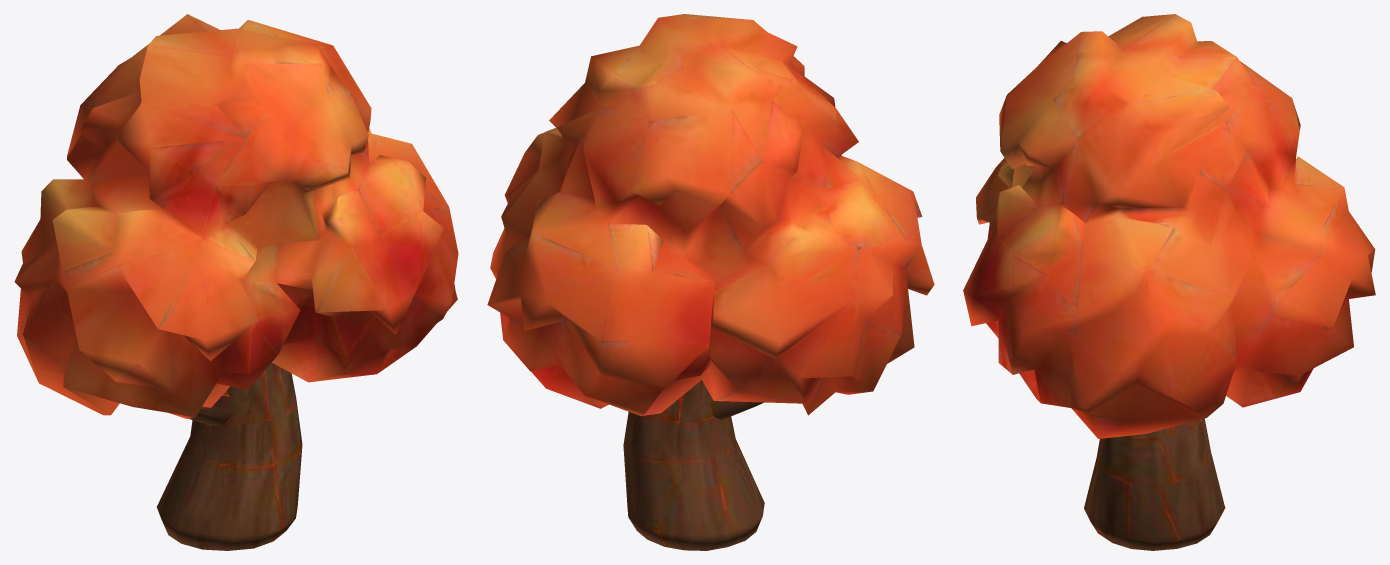
File: maple.glb
3 views of the same model, side by side, from view 1: azimuth 30°, elevation 25°; view 2: azimuth 150°, elevation 25°; view 3: azimuth 270°, elevation 25° (orthographic). The views are drawn at different scales.
Size of the model in its own units: 0.8199 by 0.9546 by 0.7325.
Materials: 1 (1 with a texture image).
